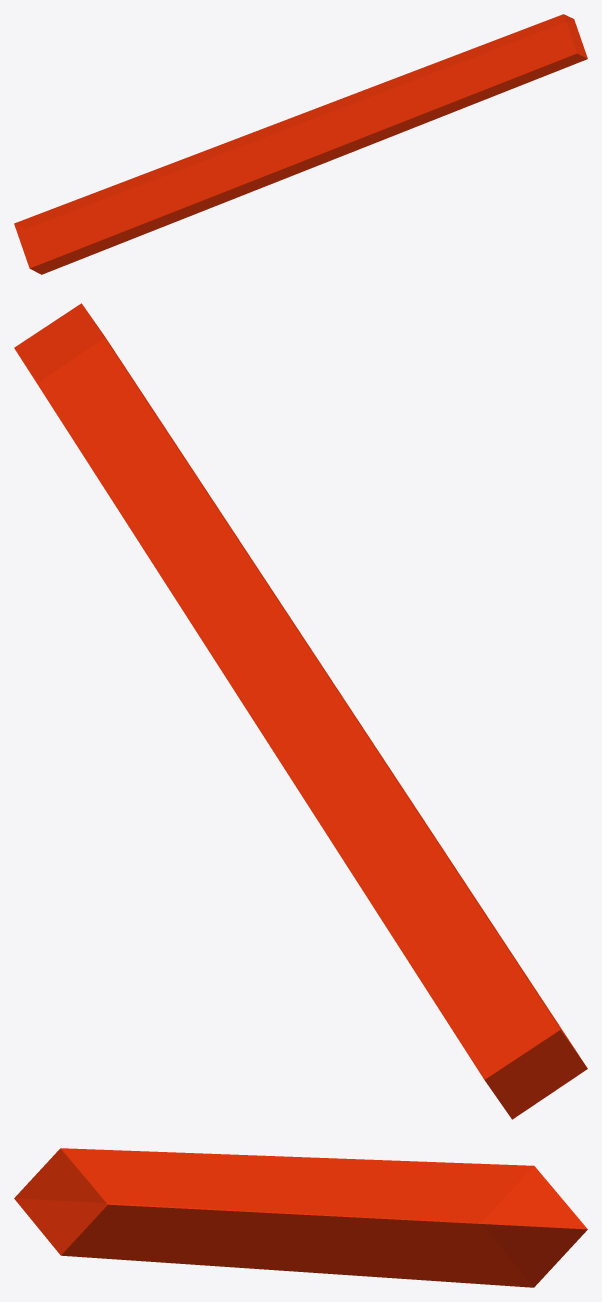
The model's file is Event_421364160_EBrechit_12.fbx.
3 renders of one model, top to bottom at view 1: azimuth 30°, elevation 25°; view 2: azimuth 150°, elevation 25°; view 3: azimuth 270°, elevation 25°, orthographic. The views are drawn at different scales.
Parts seen in each view (by area): view 1: Model; view 2: Model; view 3: Model.
Boxes of the visible parts, x1,y1,x2,y2 form: Model: [14, 14, 587, 274]; Model: [14, 303, 587, 1119]; Model: [14, 1148, 587, 1287].
Size of the model in its own units: 0.6563 by 0.3872 by 0.4389.
